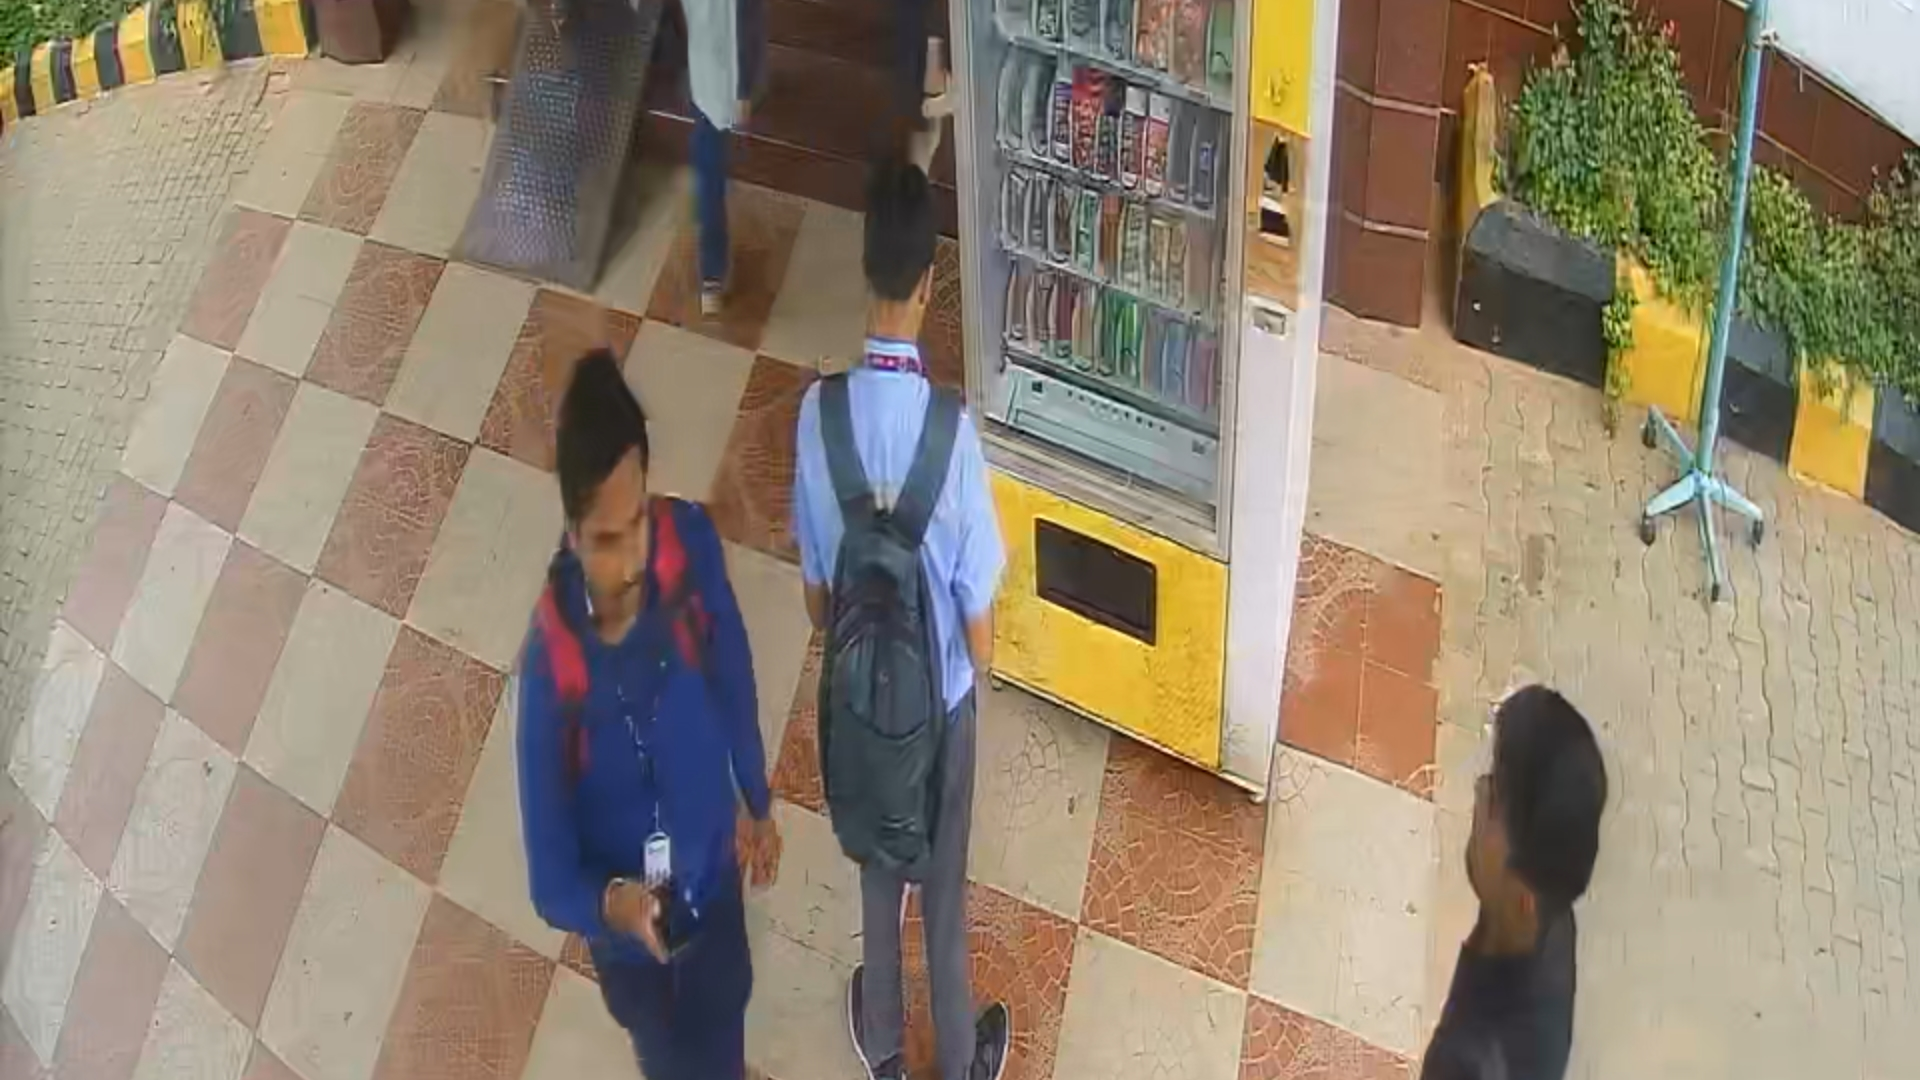not intruder: (509, 327, 791, 1080)
